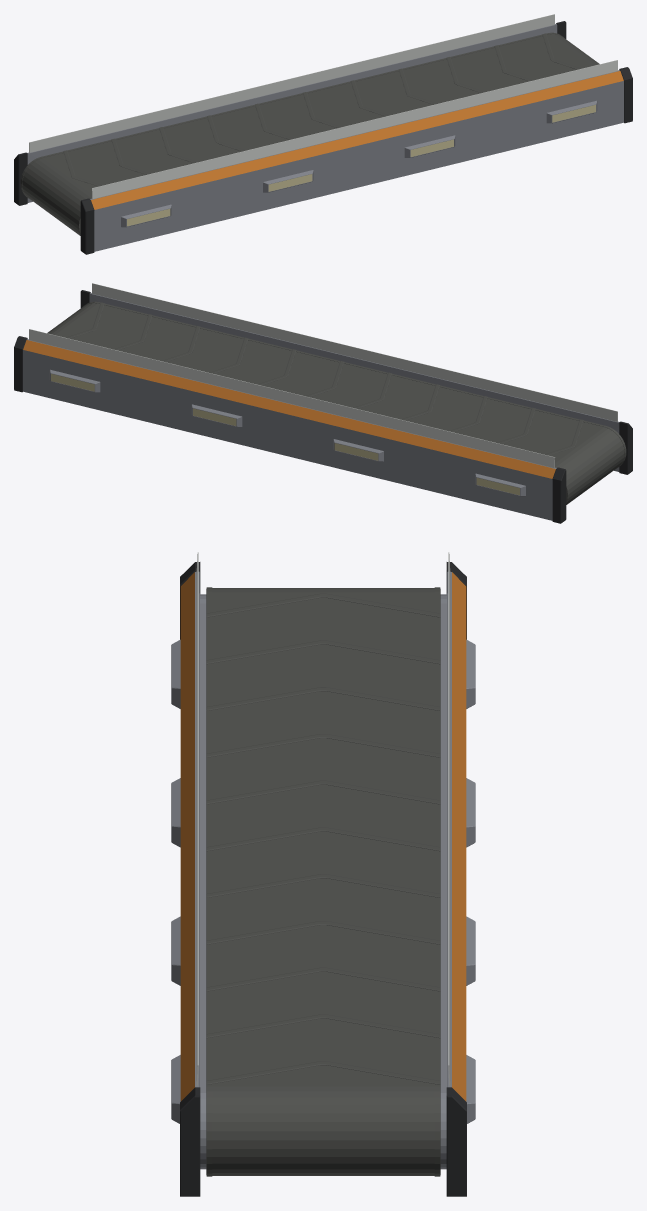
The model's file is conveyor_belt.fbx.
The picture shows the model from 3 angles, top to bottom: view 1: azimuth 30°, elevation 25°; view 2: azimuth 150°, elevation 25°; view 3: azimuth 270°, elevation 25°; orthographic projection. The views are drawn at different scales.
Visible parts, largest first — view 1: Cylinder, Belt, Arnaments, Strips; view 2: Cylinder, Belt, Arnaments, Strips; view 3: Belt, Cylinder, Strips, Arnaments.
Boxes of the visible parts, x1,y1,x2,y2 form: Cylinder: (14, 14, 632, 254); Belt: (20, 32, 599, 235); Arnaments: (121, 100, 597, 227); Strips: (63, 33, 580, 186); Cylinder: (14, 283, 632, 523); Belt: (47, 301, 626, 504); Arnaments: (49, 369, 525, 496); Strips: (66, 302, 583, 455); Belt: (206, 587, 440, 1176); Cylinder: (180, 552, 466, 1196); Strips: (206, 593, 440, 1084); Arnaments: (171, 639, 475, 1123).
Bounding box in the file's own units: 1081 × 114 × 260.
